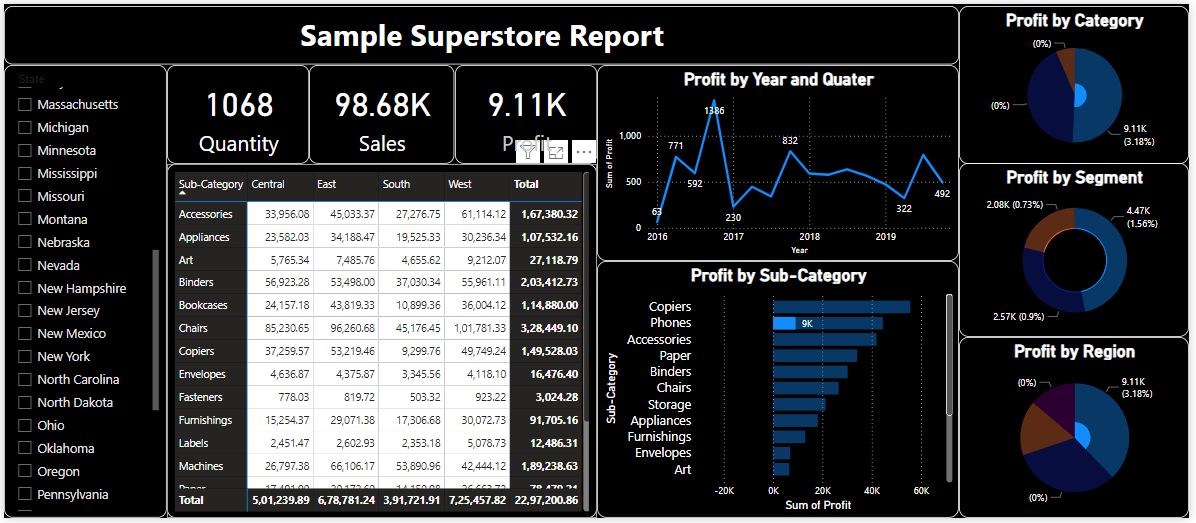

What the dashboard file says about the page in this screenshot:
{"tool":"powerbi","page":{"name":"Report","canvas":[1500,650],"ordinal":0},"visuals":[{"type":"pieChart","title":"Profit by Category","fields":{"Y":["Sum(Orders (2).Profit)"],"Category":["Orders (2).Category"]},"box":[1208.9,2.5,291.1,200],"z":0},{"type":"donutChart","title":"Profit by Segment","fields":{"Y":["Sum(Orders (2).Profit)"],"Category":["Orders (2).Segment"]},"box":[1208.9,201.3,291.1,220.3],"z":1000},{"type":"pieChart","title":"Profit by Region","fields":{"Y":["Sum(Orders (2).Profit)"],"Category":["Orders (2).Region"]},"box":[1208.9,421.5,291.1,229.1],"z":2000},{"type":"lineChart","title":"Profit by Year and Quater","fields":{"Y":["Sum(Orders (2).Profit)"],"Category":["Orders (2).Order Date.Variation.Date Hierarchy.Year","Orders (2).Order Date.Variation.Date Hierarchy.Quarter"]},"box":[750.6,77.2,458.2,248.1],"z":3000},{"type":"barChart","title":"Profit by Sub-Category","fields":{"Y":["Sum(Orders (2).Profit)"],"Category":["Orders (2).Sub-Category"]},"box":[750.6,325.3,458.2,325.3],"z":4000},{"type":"slicer","fields":{"Values":["Orders (2).State"]},"box":[0,77.2,206.3,573.4],"z":5000},{"type":"pivotTable","fields":{"Rows":["Orders (2).Sub-Category"],"Columns":["Orders (2).Region"],"Values":["Sum(Orders (2).Sales)"]},"box":[206.3,202.5,544.3,448.1],"z":6000},{"type":"textbox","box":[0,2.9,1208.6,74.3],"z":8000},{"type":"card","title":"Sales","fields":{"Values":["Sum(Orders (2).Sales)"]},"box":[386.1,77.2,183.5,125.3],"z":9000},{"type":"card","fields":{"Values":["Sum(Orders (2).Quantity)"]},"box":[206.3,77.2,179.7,125.3],"z":10000},{"type":"card","fields":{"Values":["Sum(Orders (2).Profit)"]},"box":[570.9,77.2,179.7,125.3],"z":11000}]}

Visuals, with their boxes in screenshot pixels (x1, y1, x2, y2), scaled from the page's 1500x650 canvas onto the 1196x523 screenshot:
"Profit by Category" pieChart: 964:2:1195:163
"Profit by Segment" donutChart: 964:162:1195:339
"Profit by Region" pieChart: 964:339:1195:522
"Profit by Year and Quater" lineChart: 598:62:964:262
"Profit by Sub-Category" barChart: 598:262:964:522
slicer - Orders (2).State: 0:62:164:522
pivotTable - Orders (2).Sub-Category x Orders (2).Region: 164:163:598:522
textbox: 0:2:964:62
"Sales" card: 308:62:454:163
card - Sum(Orders (2).Quantity): 164:62:308:163
card - Sum(Orders (2).Profit): 455:62:598:163
